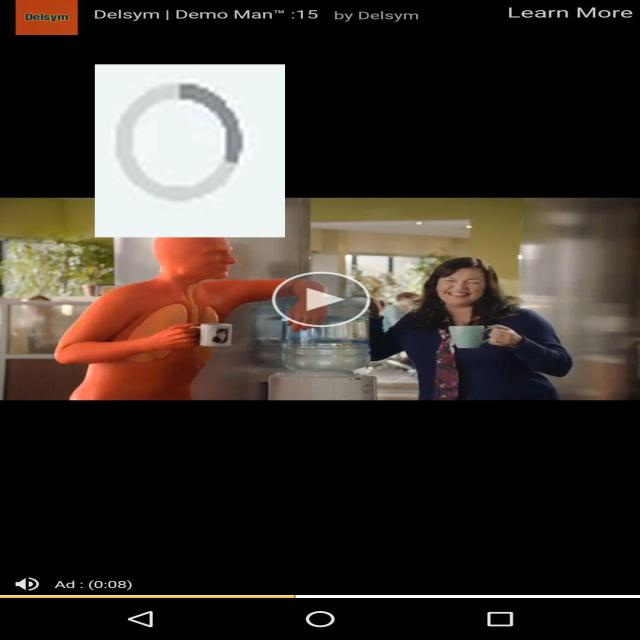misdirection: (95, 64, 285, 238)
